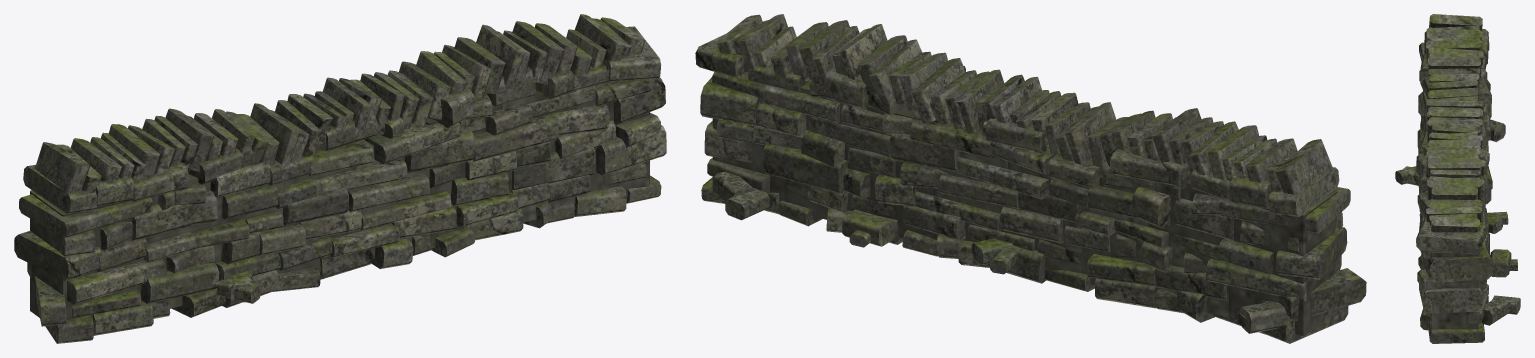
The model's file is wall.glb.
The picture shows the model from 3 angles, left to right: view 1: azimuth 30°, elevation 25°; view 2: azimuth 150°, elevation 25°; view 3: azimuth 270°, elevation 25°; orthographic projection. The views are drawn at different scales.
Visible parts, largest first — view 1: wall; view 2: wall; view 3: wall.
Part boxes in pixels (x1,y1,x2,y2): wall: (14, 14, 666, 343); wall: (695, 14, 1366, 343); wall: (1395, 14, 1520, 343).
Size of the model in its own units: 4.3 by 1.2 by 1.04.
1 material, 1 textured.
